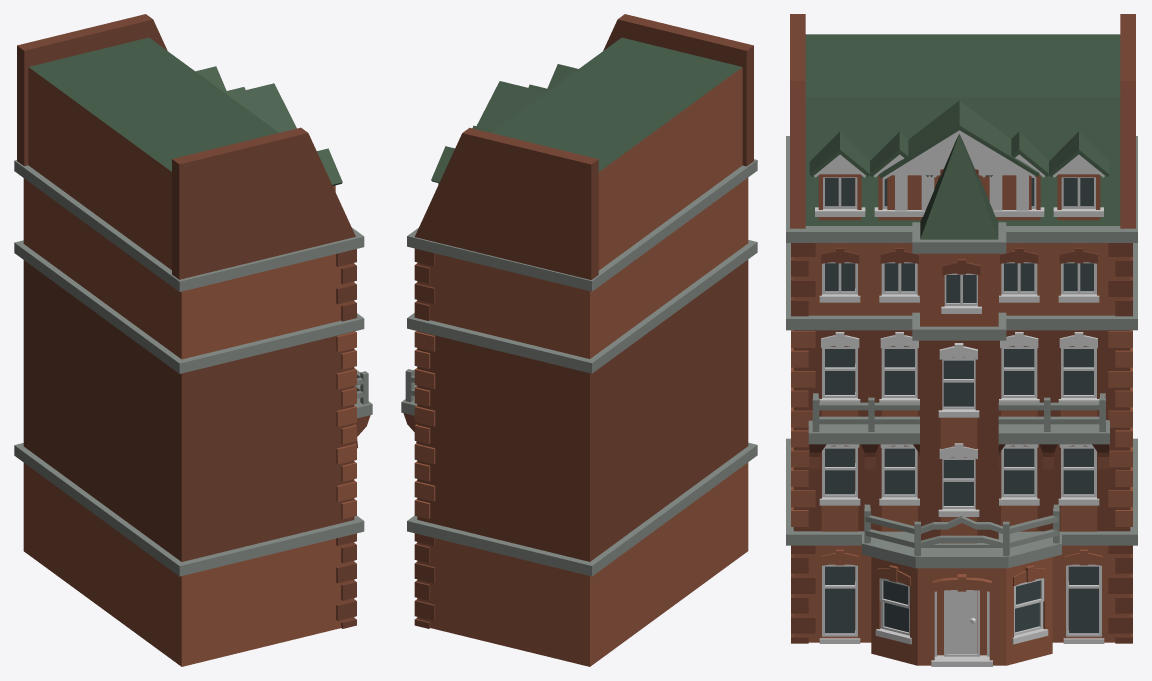
The model's file is House-1-1.glb.
3 views of the same model, side by side, from view 1: azimuth 30°, elevation 25°; view 2: azimuth 150°, elevation 25°; view 3: azimuth 270°, elevation 25° (orthographic). The views are drawn at different scales.
Visible parts, largest first — view 1: Main-1-1, RoofWindowBig-1-1, RoofWindowsSides-1-1, Balkony-1-1; view 2: Main-1-1, RoofWindowBig-1-1, RoofWindowsSides-1-1, Balkony-1-1; view 3: Main-1-1, FrontExtension-1-1, DoorExtension-1-1, Balkony-1-1, RoofWindowBig-1-1, RoofWindowsSides-1-1, RoofWindowsMiddle-1-1.
Part boxes in pixels (box(x1,y1,x2,y2)): Main-1-1: box(14, 14, 364, 666); RoofWindowBig-1-1: box(227, 83, 296, 132); RoofWindowsSides-1-1: box(195, 66, 342, 191); Balkony-1-1: box(354, 370, 372, 448); Main-1-1: box(407, 14, 757, 666); RoofWindowBig-1-1: box(476, 81, 546, 130); RoofWindowsSides-1-1: box(431, 64, 578, 184); Balkony-1-1: box(401, 369, 417, 442); Main-1-1: box(786, 14, 1137, 643); FrontExtension-1-1: box(912, 134, 1006, 547); DoorExtension-1-1: box(862, 504, 1061, 666); Balkony-1-1: box(808, 393, 1109, 470); RoofWindowBig-1-1: box(879, 100, 1039, 220); RoofWindowsSides-1-1: box(809, 131, 1109, 220); RoofWindowsMiddle-1-1: box(869, 131, 1049, 220).
Size of the model in its own units: 8.09 by 17.08 by 10.14.
2 materials, 2 textured.
